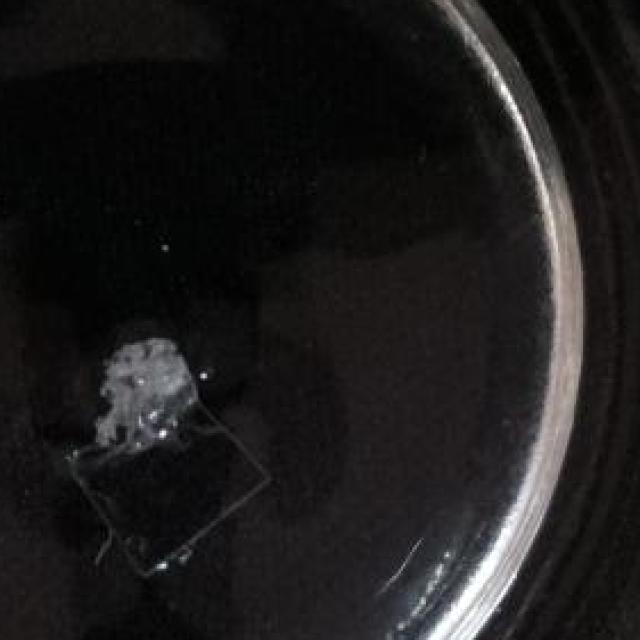Microplastic: (52, 330, 276, 580)
